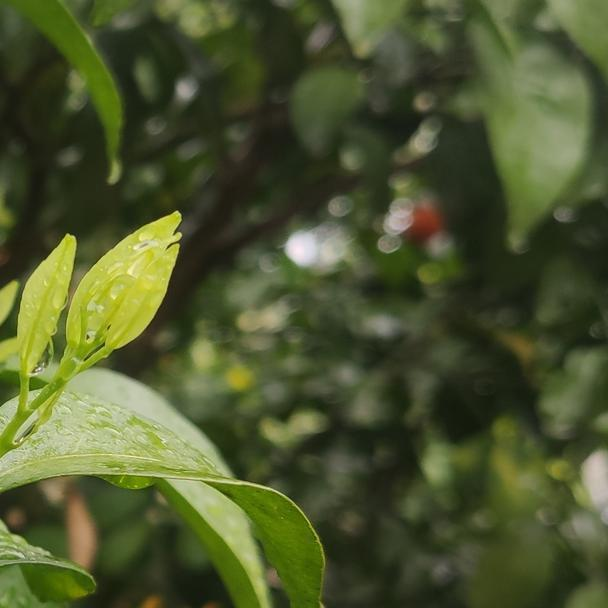shoot: (14, 222, 187, 408)
